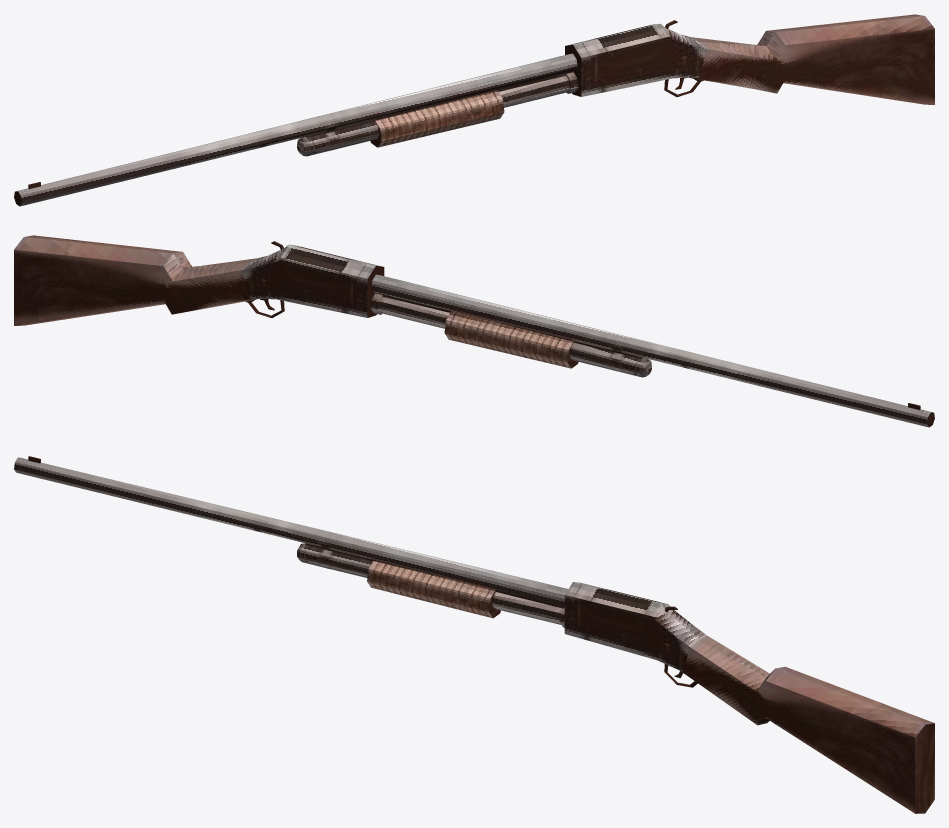
Rendered from shop-item-1067.glb.
The picture shows the model from 3 angles, top to bottom: view 1: azimuth 30°, elevation 25°; view 2: azimuth 150°, elevation 25°; view 3: azimuth 330°, elevation 25°; orthographic projection.
Parts seen in each view (by area): view 1: buttstock, barrel, body, reload, bottomBarrel, between; view 2: buttstock, barrel, body, reload, bottomBarrel, between; view 3: buttstock, barrel, body, reload, bottomBarrel.
Part boxes in pixels (bbox=[...]): buttstock: bbox=[691, 14, 934, 104]; barrel: bbox=[14, 53, 577, 206]; body: bbox=[565, 23, 706, 96]; reload: bbox=[370, 90, 504, 147]; bottomBarrel: bbox=[297, 72, 578, 156]; between: bbox=[306, 71, 573, 137]; buttstock: bbox=[14, 235, 257, 325]; barrel: bbox=[371, 274, 934, 427]; body: bbox=[242, 244, 384, 317]; reload: bbox=[444, 311, 578, 368]; bottomBarrel: bbox=[370, 293, 651, 377]; between: bbox=[375, 292, 642, 358]; buttstock: bbox=[682, 635, 934, 813]; barrel: bbox=[14, 456, 568, 606]; body: bbox=[564, 582, 706, 672]; reload: bbox=[367, 560, 500, 618]; bottomBarrel: bbox=[297, 543, 564, 627].
Bounding box in the file's own units: 1.26 × 0.1937 × 0.0471.
1 material, 1 textured.
